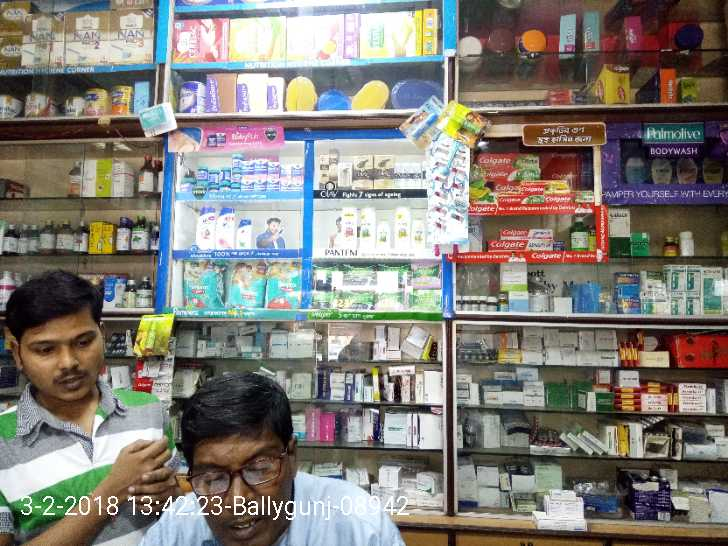vicks: (182, 152, 306, 196)
